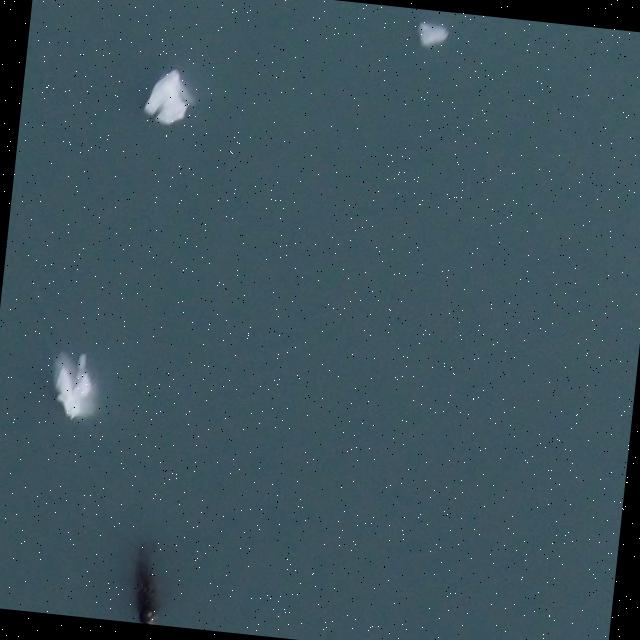seal: (131, 543, 158, 624)
